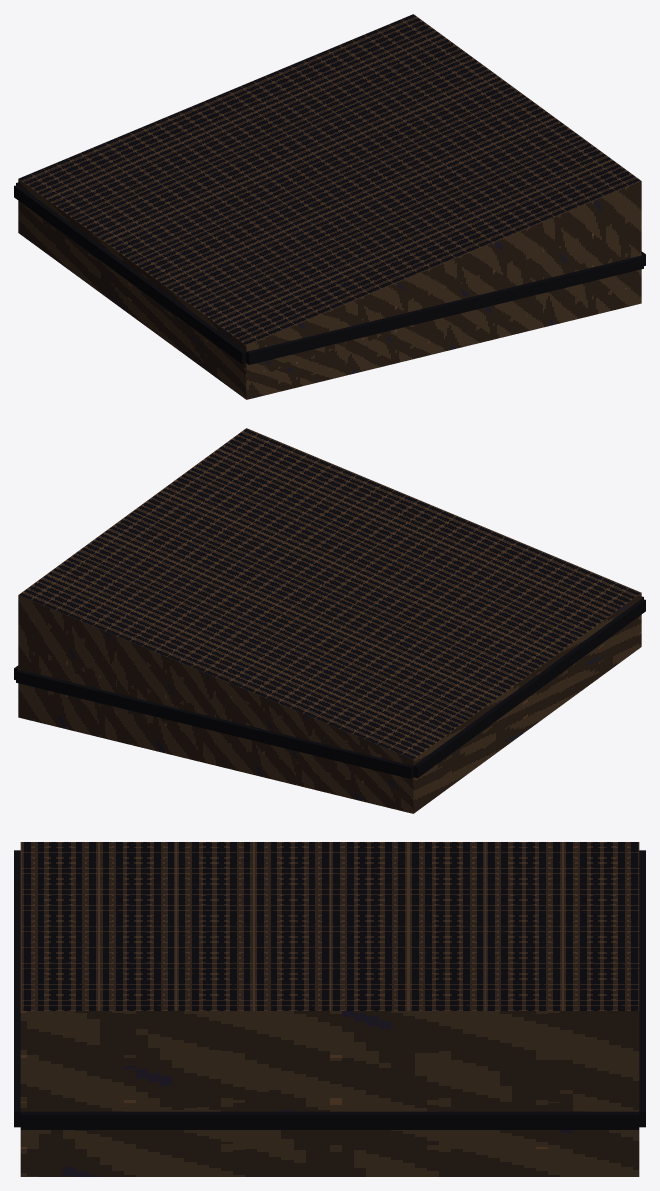
Rendered from PLA-02_Muelle_flotante_r.gltf.
3 renders of one model, top to bottom at view 1: azimuth 30°, elevation 25°; view 2: azimuth 150°, elevation 25°; view 3: azimuth 270°, elevation 25°, orthographic. The views are drawn at different scales.
Parts seen in each view (by area): view 1: PLA-02_Muelle_flotante_r-col; view 2: PLA-02_Muelle_flotante_r-col; view 3: PLA-02_Muelle_flotante_r-col.
Part boxes in pixels (x1,y1,x2,y2): PLA-02_Muelle_flotante_r-col: (14, 14, 645, 399); PLA-02_Muelle_flotante_r-col: (14, 428, 645, 813); PLA-02_Muelle_flotante_r-col: (14, 842, 645, 1176).
Bounding box in the file's own units: 8.18 × 2.37 × 8.18.
1 material, 1 textured.
